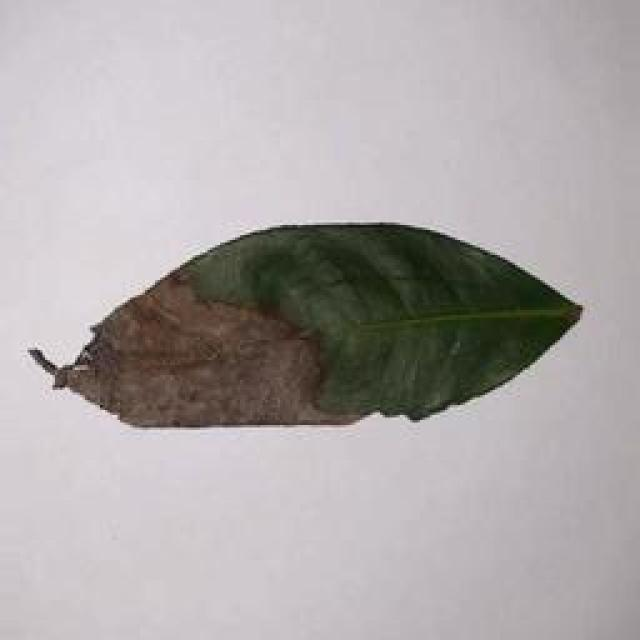Brown Blight: (29, 208, 594, 446)
